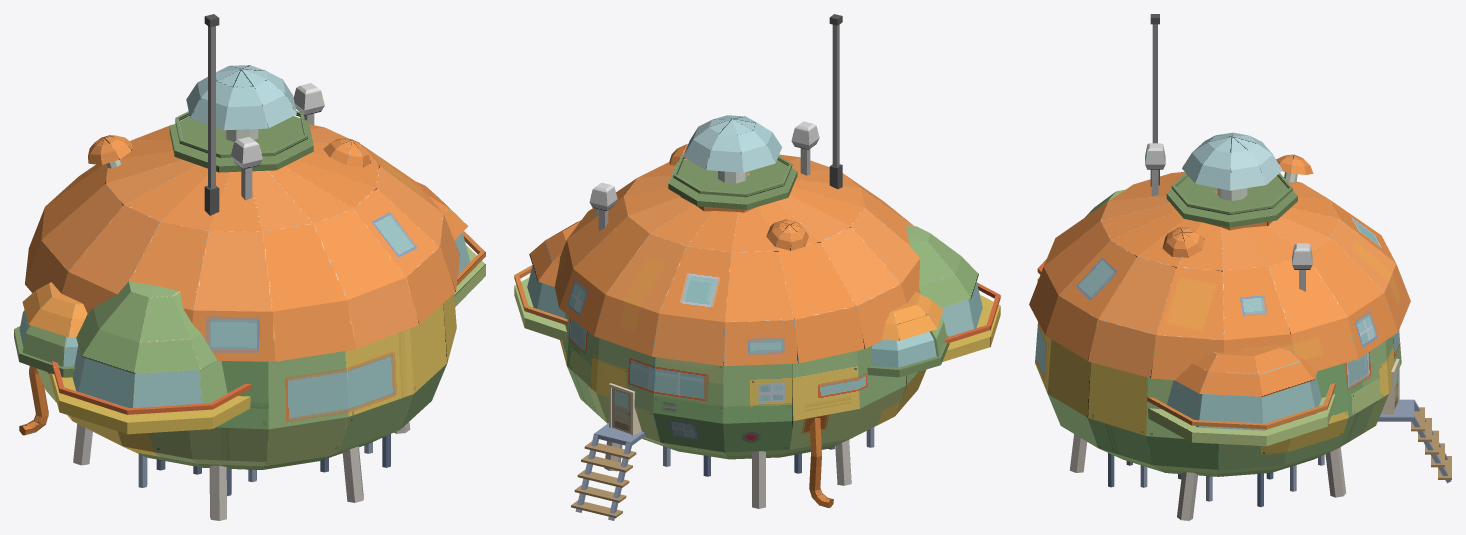
Rendered from F.ber_house_1.gltf.
The picture shows the model from 3 angles, left to right: view 1: azimuth 30°, elevation 25°; view 2: azimuth 150°, elevation 25°; view 3: azimuth 270°, elevation 25°; orthographic projection. The views are drawn at different scales.
Visible parts, largest first — view 1: cuboid; view 2: cuboid; view 3: cuboid.
Boxes of the visible parts, x1,y1,x2,y2 form: cuboid: [14, 14, 485, 520]; cuboid: [514, 14, 1000, 520]; cuboid: [1029, 14, 1451, 520].
Bounding box in the file's own units: 12.6 × 12.26 × 11.32.
1 material, 1 textured.
